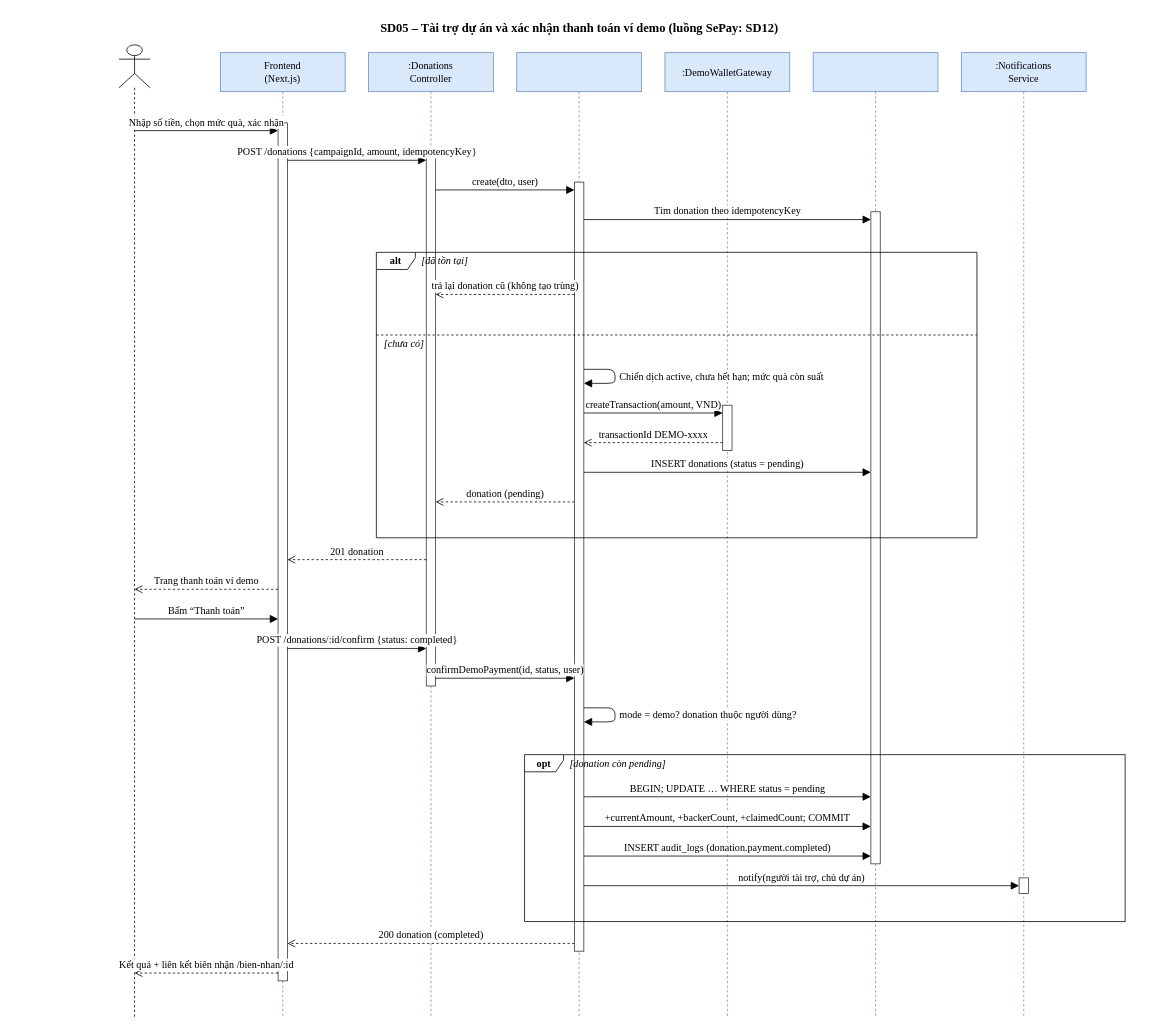
Some shapes in this 1158 by 1032 pixel diagram are drawn without their labels. Each missing label, with the box of its shape:
:DonationsService: (516, 52, 642, 1018)
CSDL (MySQL): (812, 52, 938, 1018)
Người tài trợ: (118, 44, 150, 1018)
